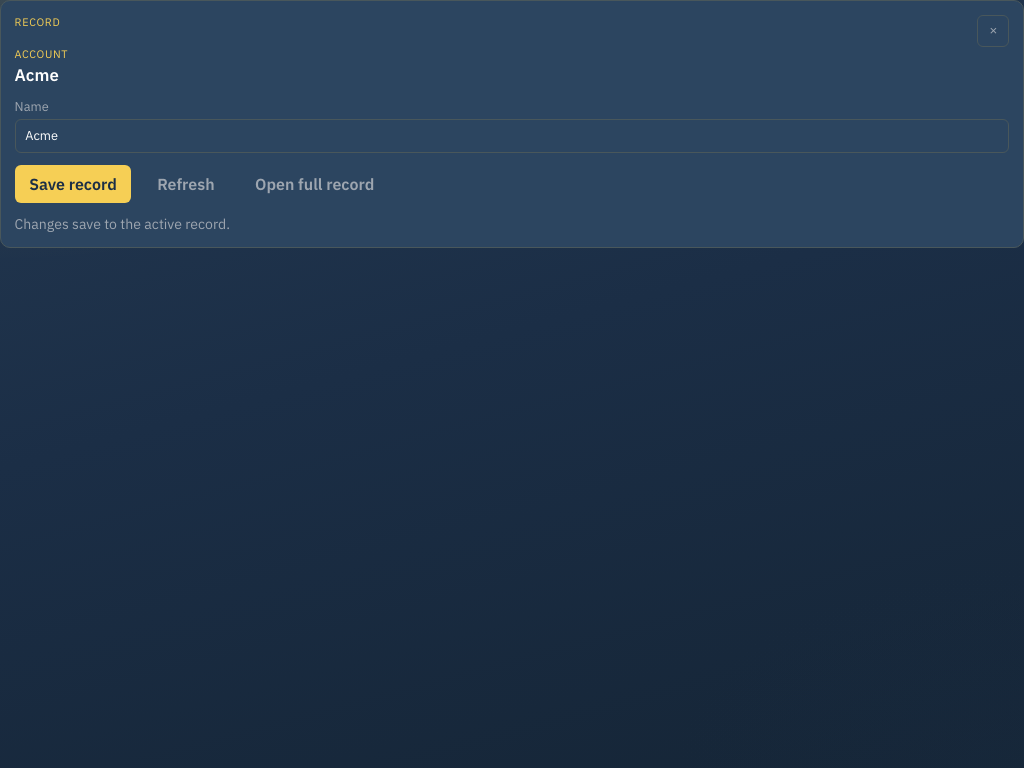
Test: RunGraphFocusPanel › hydrates and edits a record through Client without writing fields to the graph
The width and height of the screenshot is (1024, 768).
Check: the field showing "Acme" is shown, box [15,119,1009,153]
Click the button "Open full record": point(315, 184) [240,165,389,203]
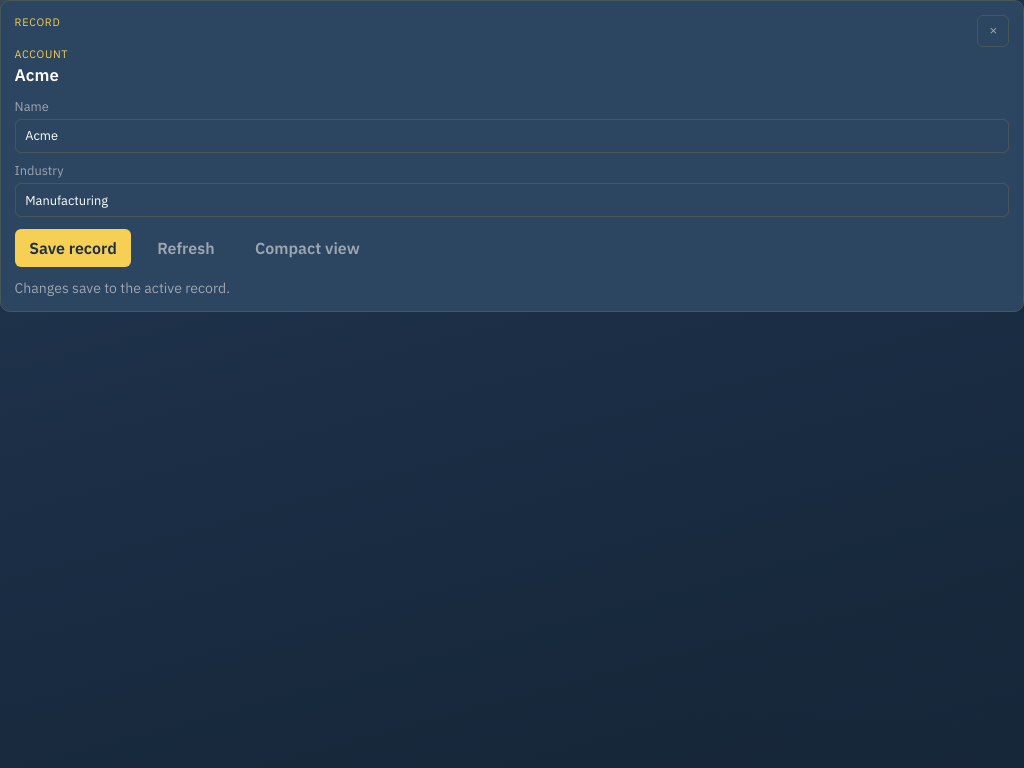
Replace the text in the field labelled "Industry" with "Technology": point(512, 200) [15,183,1009,217]
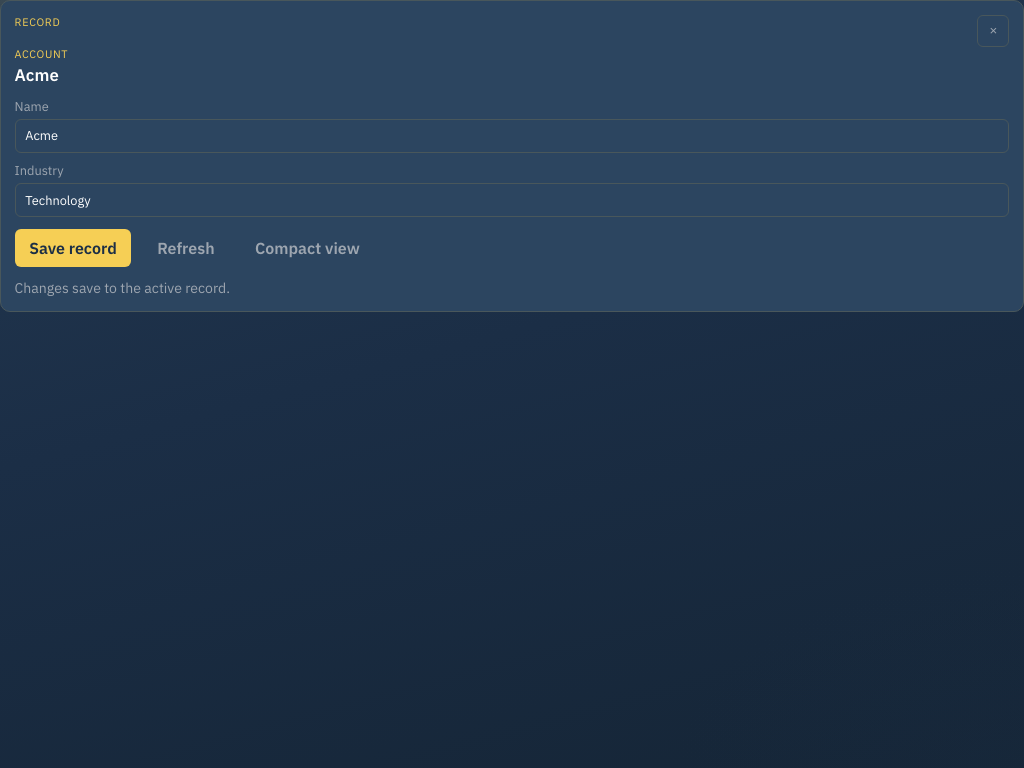
Click the button "Save record": point(73, 248) [15,229,131,267]
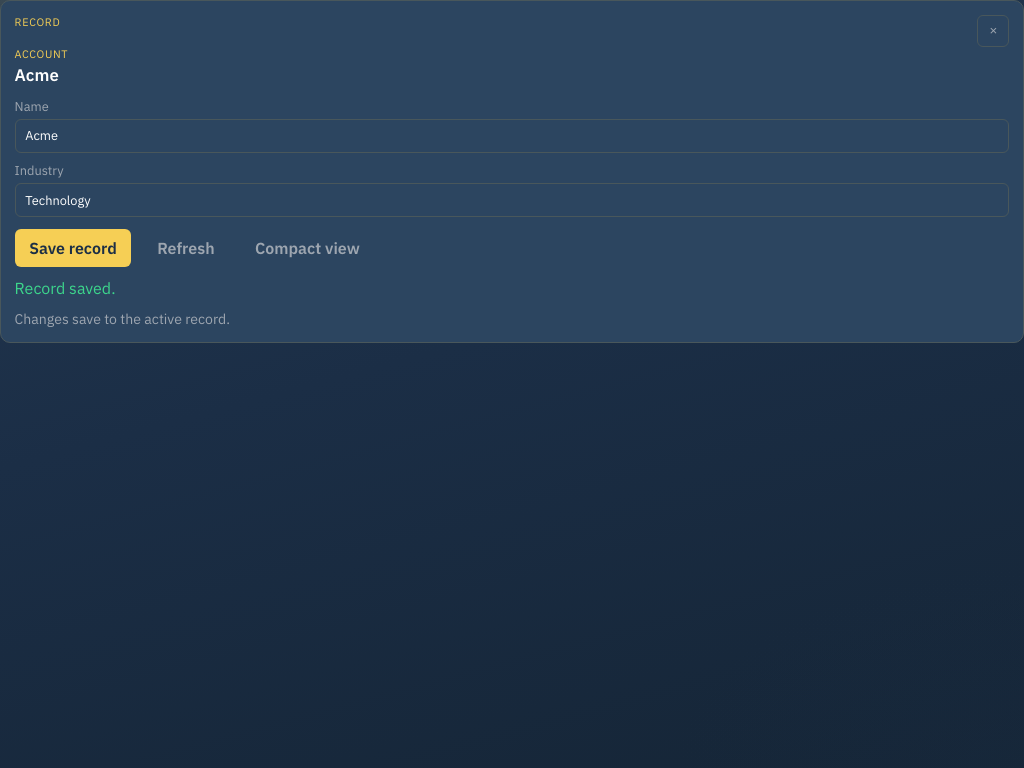
Check: the text "Record saved." is shown, box [15,278,116,298]
